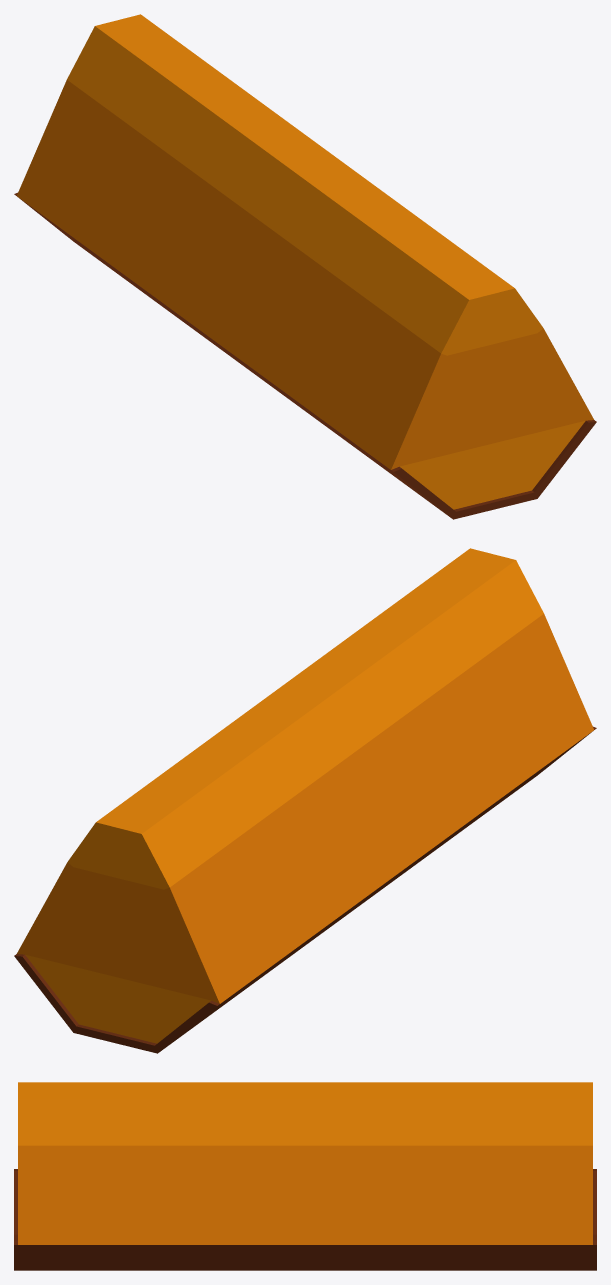
The model's file is Small Log_29.fbx.
3 renders of one model, top to bottom at view 1: azimuth 30°, elevation 25°; view 2: azimuth 150°, elevation 25°; view 3: azimuth 270°, elevation 25°, orthographic. The views are drawn at different scales.
Visible parts, largest first — view 1: Circle.439; view 2: Circle.439; view 3: Circle.439.
Boxes of the visible parts, x1,y1,x2,y2 form: Circle.439: (14, 14, 596, 519); Circle.439: (14, 548, 596, 1053); Circle.439: (14, 1082, 596, 1270).
Size of the model in its own units: 7.35 by 7.38 by 23.76.
